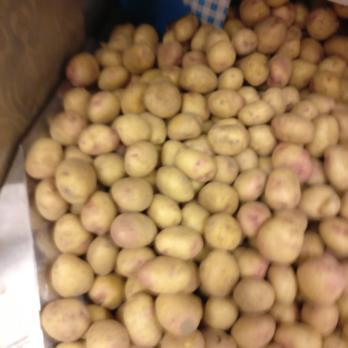Floury potato: (111, 24, 234, 348), (235, 0, 348, 348), (40, 51, 112, 348)
